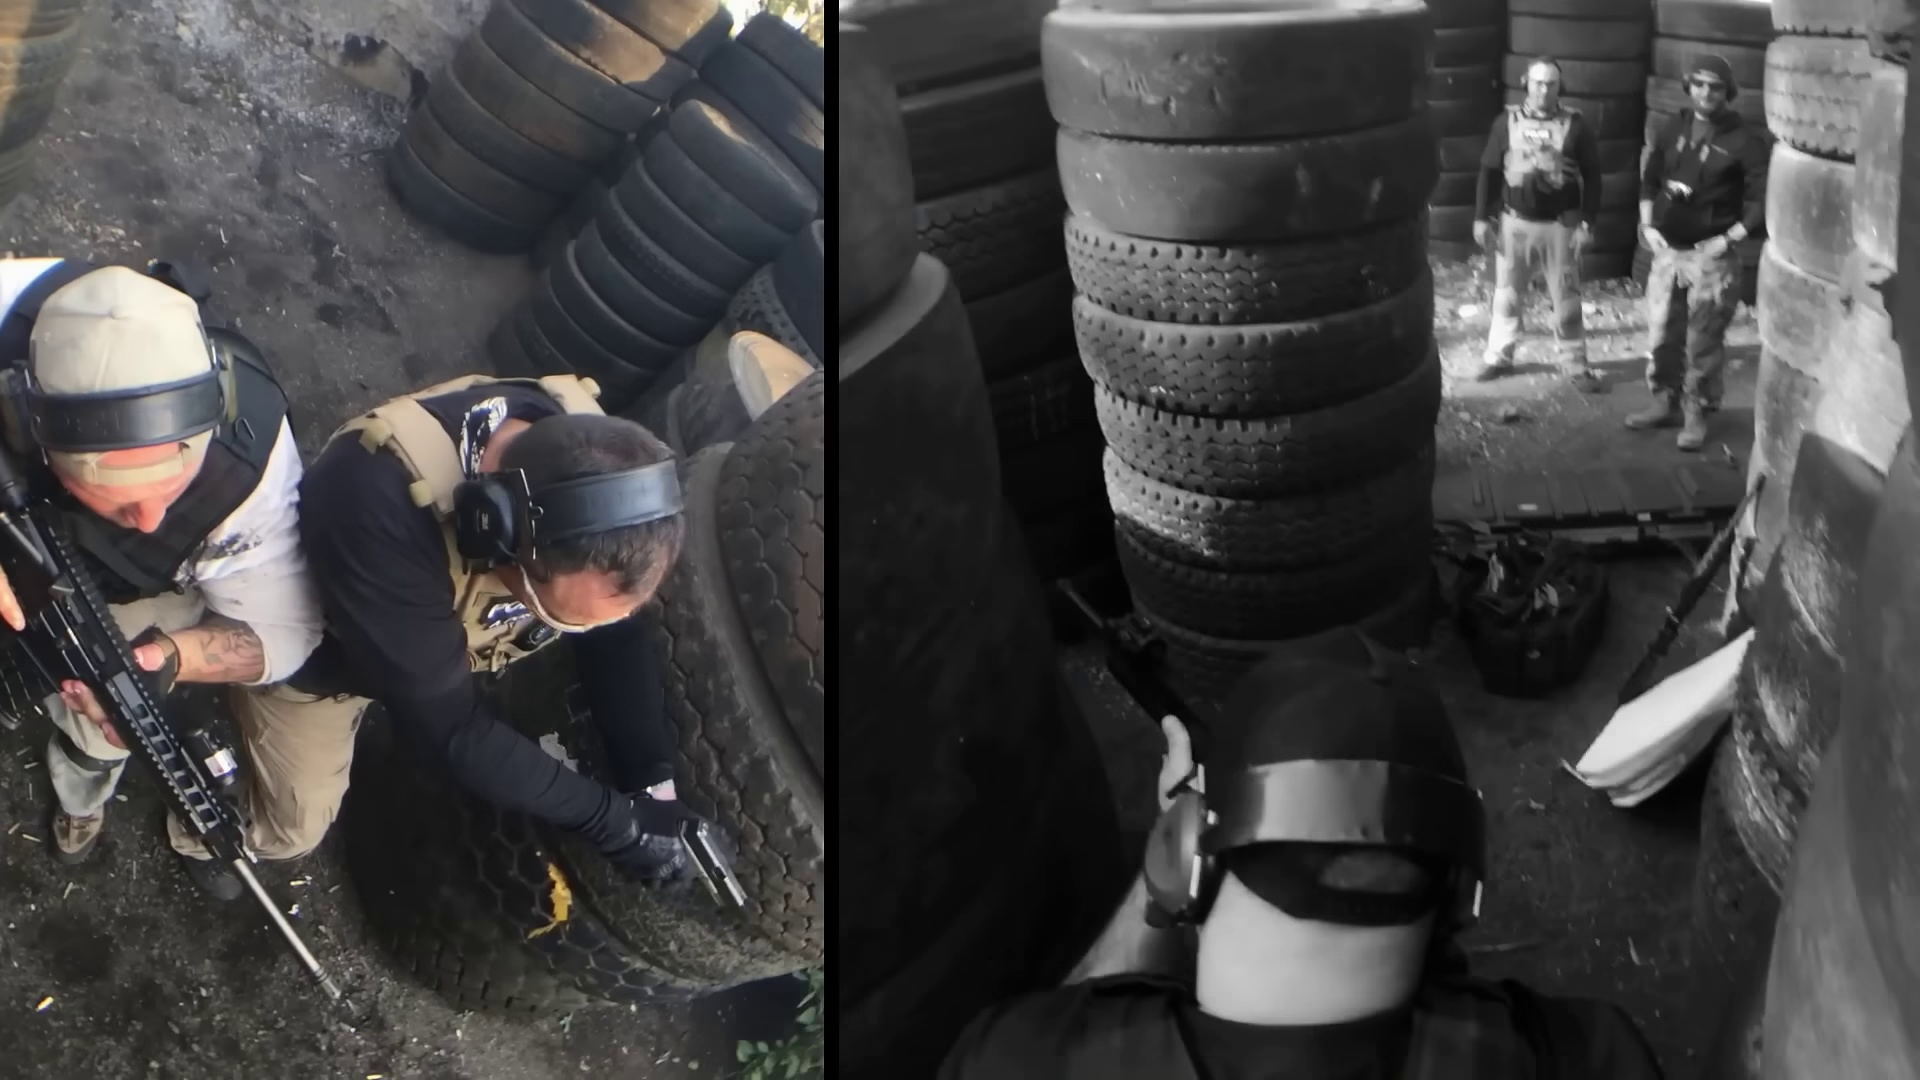gun: (0, 405, 356, 1009), (1048, 570, 1225, 782), (651, 814, 752, 916)
p_w_gun: (956, 563, 1664, 1080), (0, 243, 359, 1009), (307, 364, 754, 919)
p_wo_gun_not_carrying_normal_pose: (1630, 49, 1775, 455), (1469, 55, 1604, 390)
